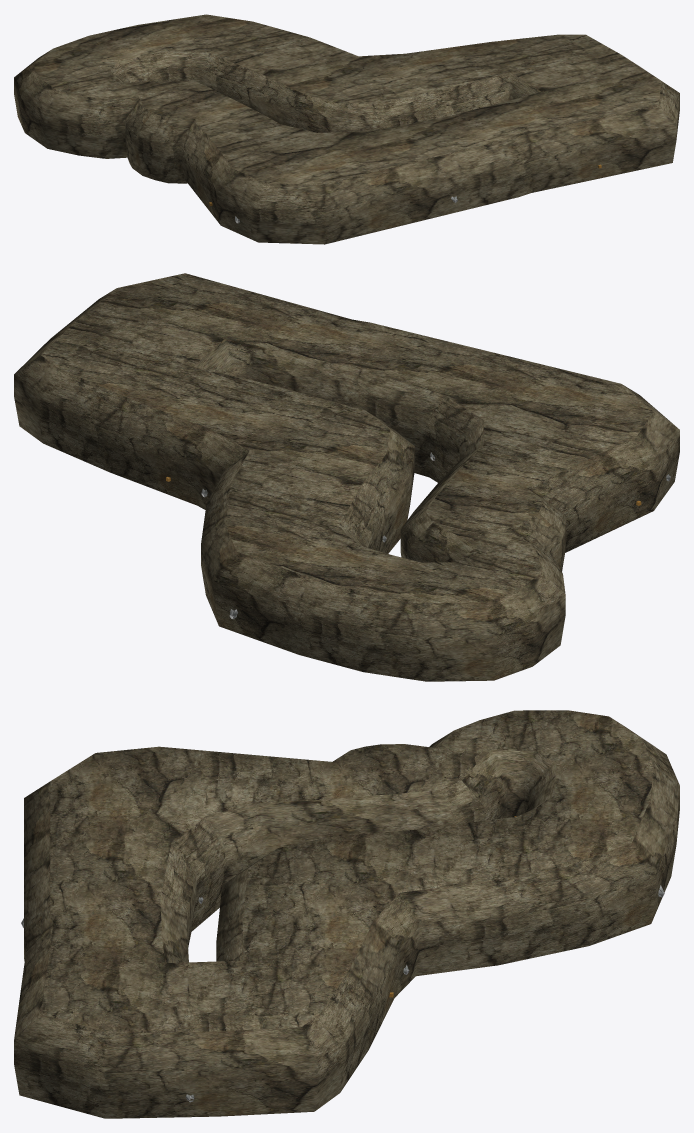
3 renders of one model, top to bottom at view 1: azimuth 30°, elevation 25°; view 2: azimuth 150°, elevation 25°; view 3: azimuth 270°, elevation 25°, orthographic. The views are drawn at different scales.
Visible parts, largest first — view 1: RockWall.002; view 2: RockWall.002; view 3: RockWall.002.
Part boxes in pixels (box(x1,y1,x2,y2)): RockWall.002: box(14, 14, 679, 244); RockWall.002: box(14, 273, 679, 681); RockWall.002: box(14, 710, 679, 1118).
Bounding box in the file's own units: 49909 × 6516 × 40637.
Materials: 12 (12 with a texture image).
